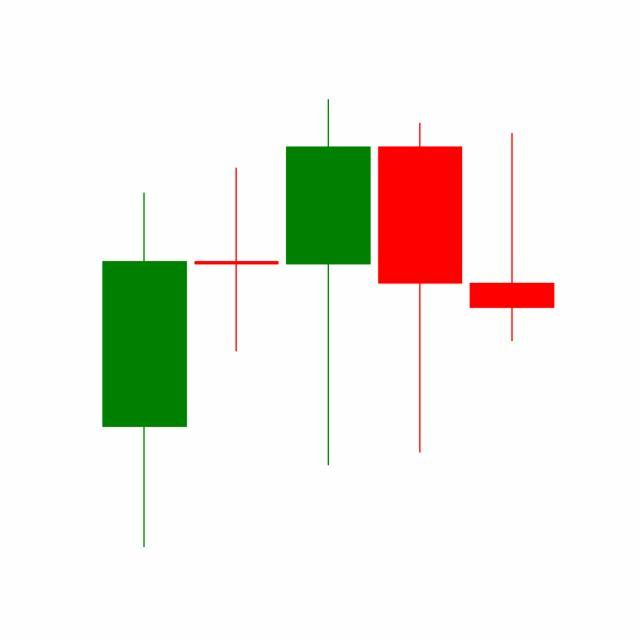Gravestone Doji: (466, 130, 559, 345)
